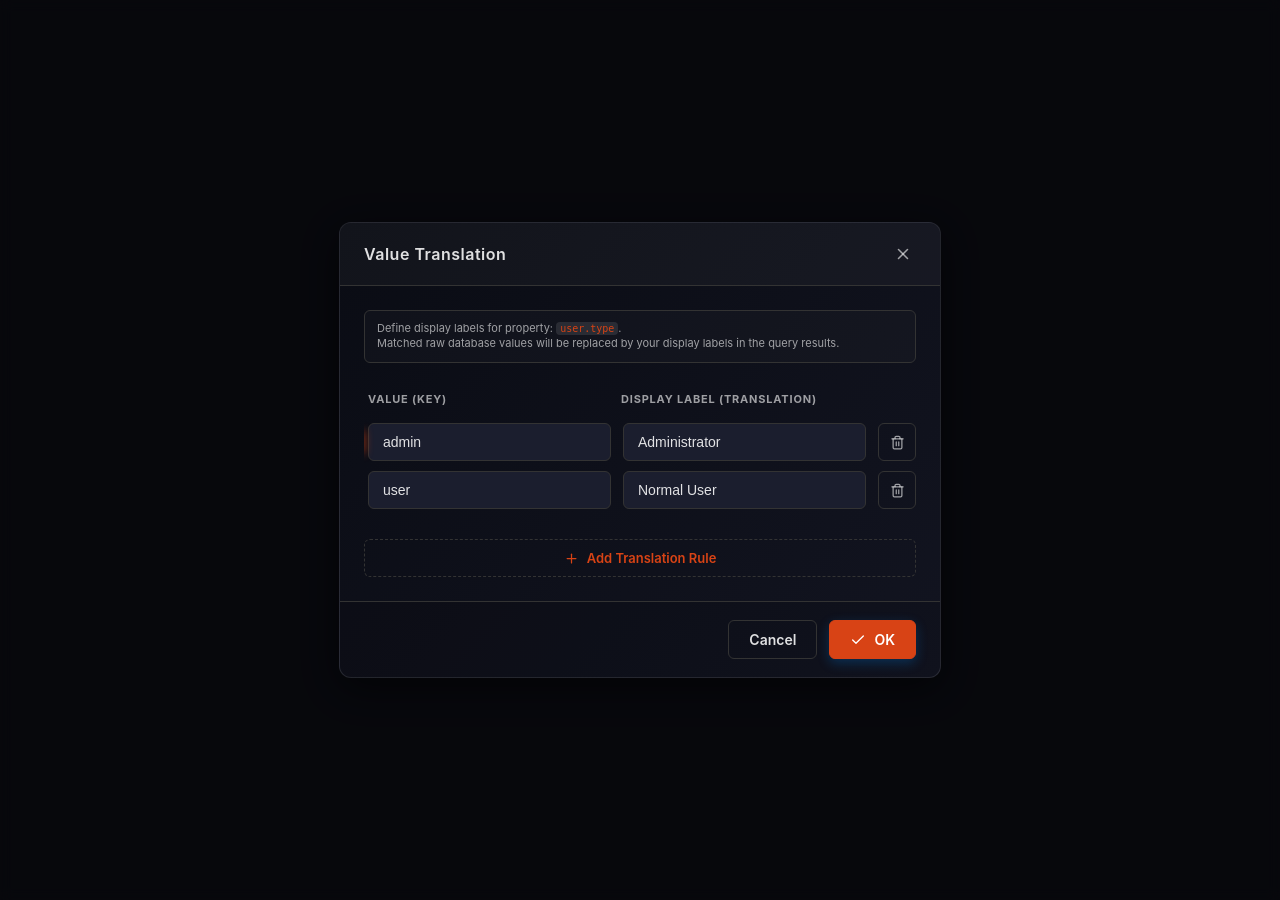
Test: TranslationDialog › allows deleting a rule
The image size is (1280, 900).
Click delete on the first row ('admin')
Step 1. Click the 1st button titled "Delete translation rule" → point(897, 442), box [878, 423, 916, 461]
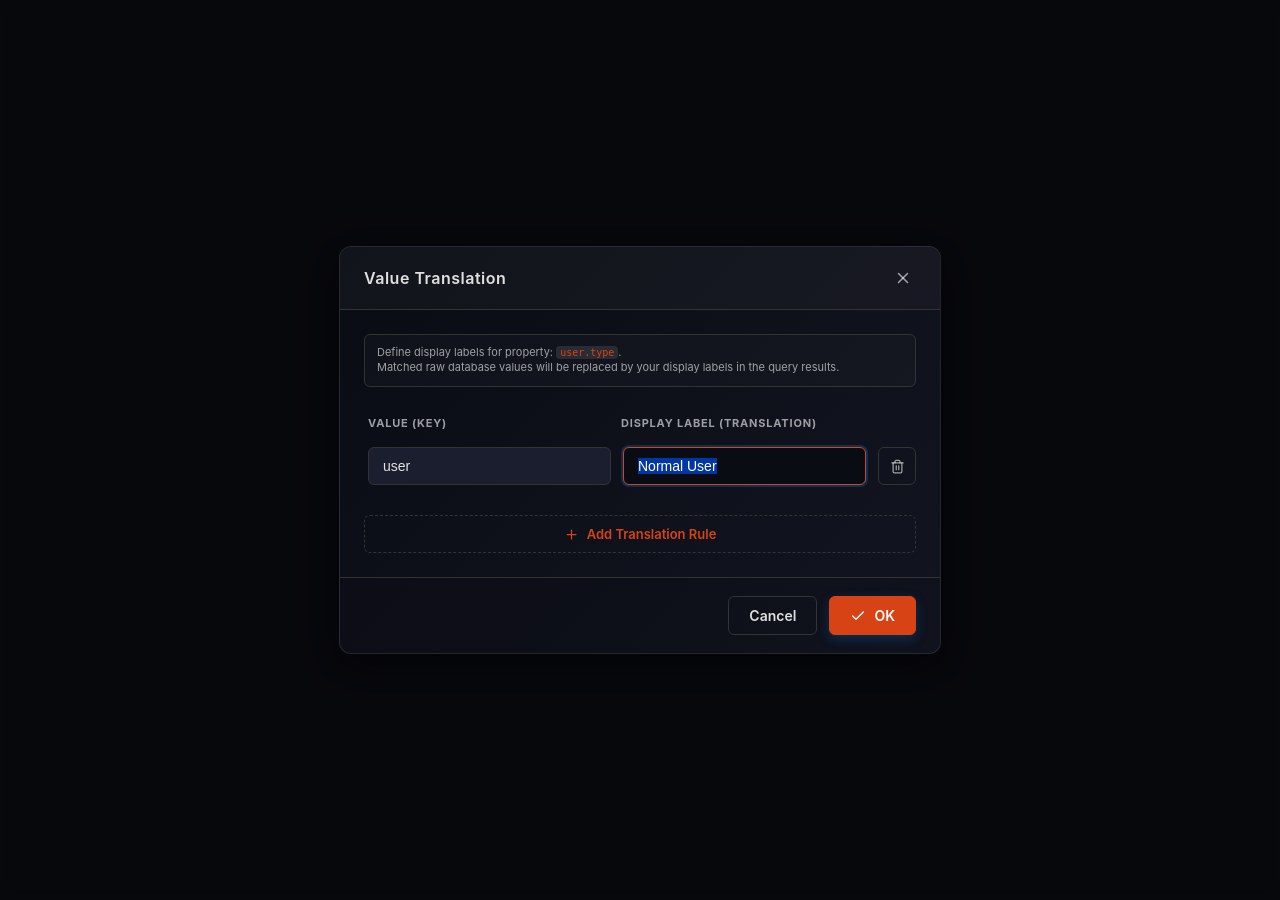
expect the field with placeholder "e.g. admin" holds "user": met, box [368, 447, 611, 485]
expect the number of fields with placeholder "e.g. admin" is 1: met, box [368, 447, 611, 485]
